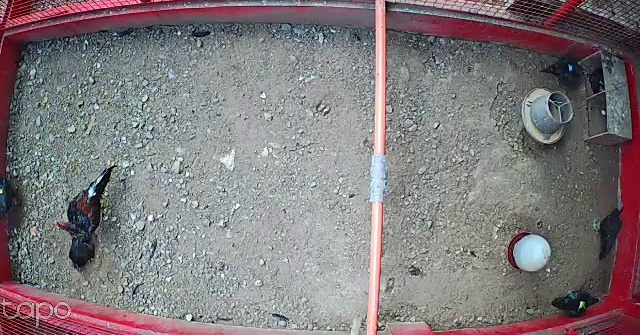Chicken: (588, 201, 628, 262), (538, 54, 595, 91), (548, 286, 603, 321), (65, 233, 103, 270), (0, 173, 24, 224)
Rooster: (56, 163, 122, 240)
Saddle_Color_Blue: (568, 65, 574, 72)
Saddle_Color_Yellow: (0, 188, 5, 196)
Saddle_Color_YellowGreen: (576, 301, 587, 311)
